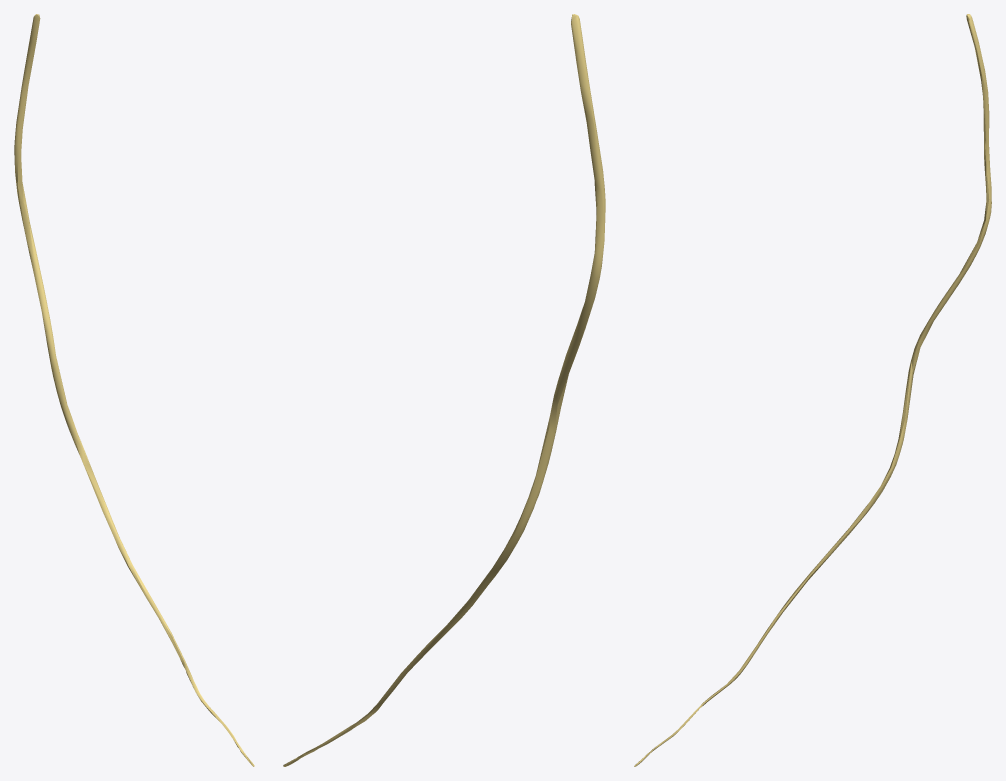
The model's file is fma65348_fj4283.glb.
3 views of the same model, side by side, from view 1: azimuth 30°, elevation 25°; view 2: azimuth 210°, elevation 25°; view 3: azimuth 270°, elevation 25° (orthographic). The views are drawn at different scales.
Visible parts, largest first — view 1: FMA65348_FJ4283; view 2: FMA65348_FJ4283; view 3: FMA65348_FJ4283.
Part boxes in pixels (left/top/right/bottom): FMA65348_FJ4283: left=14, top=14, right=254, bottom=766; FMA65348_FJ4283: left=283, top=14, right=605, bottom=766; FMA65348_FJ4283: left=634, top=14, right=991, bottom=766.
Size of the model in its own units: 0.018 by 0.1427 by 0.0644.
